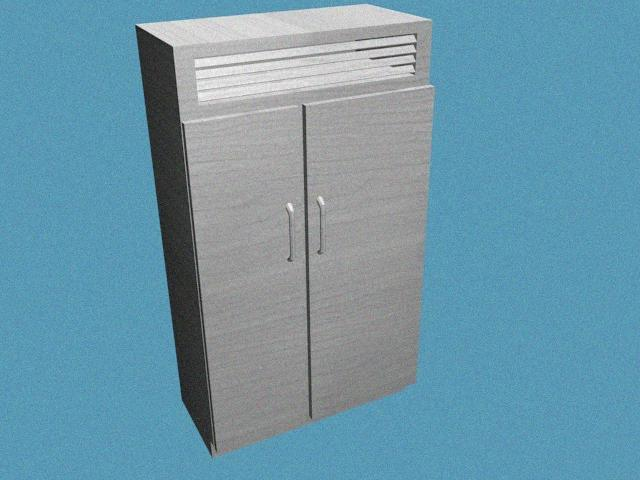cabinet_door: (308, 97, 426, 401), (200, 115, 308, 436)
handle: (280, 197, 300, 267), (312, 193, 331, 263)
